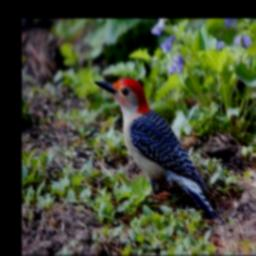Woodpecker: (94, 77, 219, 220)
